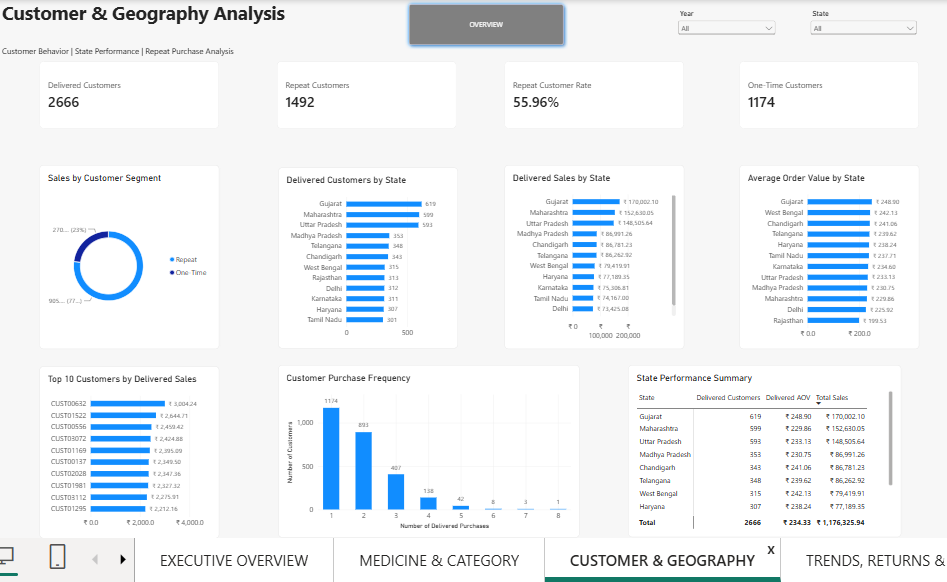

This screenshot's page, from the dashboard's own definition file:
{"tool":"powerbi","page":{"name":"CUSTOMER & GEOGRAPHY","canvas":[1920,1080],"ordinal":2},"visuals":[{"type":"textbox","box":[10.6,0,766.9,89.9],"z":0},{"type":"textbox","box":[10.6,89.9,513.1,55.5],"z":1000},{"type":"cardVisual","title":"Delivered Customers","fields":{"Data":["Date_Table.Delivered Customers"]},"box":[86.1,122.5,360,135],"z":2000},{"type":"cardVisual","title":"Delivered Customers","fields":{"Data":["Date_Table.Repeat Customers"]},"box":[562.8,122.5,360,135],"z":3000},{"type":"cardVisual","title":"Delivered Customers","fields":{"Data":["Date_Table.Repeat Customer Rate"]},"box":[1019.6,122.5,360,135],"z":4000},{"type":"cardVisual","title":"Delivered Customers","fields":{"Data":["Date_Table.One-Time Customers"]},"box":[1489.7,122.5,360,135],"z":5000},{"type":"donutChart","title":"Sales by Customer Segment","fields":{"Category":["Customer_Segment.Segment"],"Y":["Customer_Segment.Customer Segment Sales"]},"box":[85.9,330.3,361.1,369.9],"z":6000},{"type":"clusteredBarChart","title":"Delivered Customers by State","fields":{"Category":["apollo_healthcare.State"],"Y":["Date_Table.Delivered Customers"]},"box":[563.7,336.9,361.1,363.3],"z":7000},{"type":"clusteredBarChart","title":"Delivered Sales by State","fields":{"Category":["apollo_healthcare.State"],"Y":["Date_Table.Total Sales"]},"box":[1019.4,330.3,361.1,369.9],"z":8000},{"type":"clusteredBarChart","title":"Top 10 Customers by Delivered Sales","fields":{"Category":["apollo_healthcare.Customer_ID"],"Y":["Date_Table.Total Sales"]},"box":[85.9,735.4,361.1,345.7],"z":9000},{"type":"clusteredColumnChart","title":"Customer Purchase Frequency","fields":{"Category":["apollo_healthcare.Customer_Purchase_Count"],"Y":["Count(apollo_healthcare.Customer_ID)"]},"box":[563.8,733.8,605,346.2],"z":10000},{"type":"clusteredBarChart","title":"Average Order Value by State","fields":{"Category":["apollo_healthcare.State"],"Y":["Date_Table.Delivered AOV"]},"box":[1490.6,330.3,361.1,369.9],"z":11000},{"type":"pivotTable","title":"State Performance Summary","fields":{"Rows":["apollo_healthcare.State"],"Values":["Date_Table.Delivered Customers","Date_Table.Delivered AOV","Date_Table.Total Sales"]},"box":[1266.2,733.8,548.3,345.7],"z":12000},{"type":"slicer","fields":{"Values":["Date_Table.Year"]},"box":[1362.9,17.6,204.8,105.7],"z":13000},{"type":"slicer","fields":{"Values":["apollo_healthcare.State"]},"box":[1629.4,17.6,222.4,85.9],"z":14000},{"type":"actionButton","box":[819.1,0,328.1,99.1],"z":15000}]}

Visuals, with their boxes on the page's 1920x1080 design canvas (x1, y1, x2, y2). These are canvas units, not pixel positions in the 947x582 screenshot, which may show the page scaled, cropped or inside an application window:
textbox: bbox(11, 0, 778, 90)
textbox: bbox(11, 90, 524, 145)
"Delivered Customers" cardVisual: bbox(86, 122, 446, 258)
"Delivered Customers" cardVisual: bbox(563, 122, 923, 258)
"Delivered Customers" cardVisual: bbox(1020, 122, 1380, 258)
"Delivered Customers" cardVisual: bbox(1490, 122, 1850, 258)
"Sales by Customer Segment" donutChart: bbox(86, 330, 447, 700)
"Delivered Customers by State" clusteredBarChart: bbox(564, 337, 925, 700)
"Delivered Sales by State" clusteredBarChart: bbox(1019, 330, 1380, 700)
"Top 10 Customers by Delivered Sales" clusteredBarChart: bbox(86, 735, 447, 1081)
"Customer Purchase Frequency" clusteredColumnChart: bbox(564, 734, 1169, 1080)
"Average Order Value by State" clusteredBarChart: bbox(1491, 330, 1852, 700)
"State Performance Summary" pivotTable: bbox(1266, 734, 1814, 1080)
slicer - Date_Table.Year: bbox(1363, 18, 1568, 123)
slicer - apollo_healthcare.State: bbox(1629, 18, 1852, 104)
actionButton: bbox(819, 0, 1147, 99)
